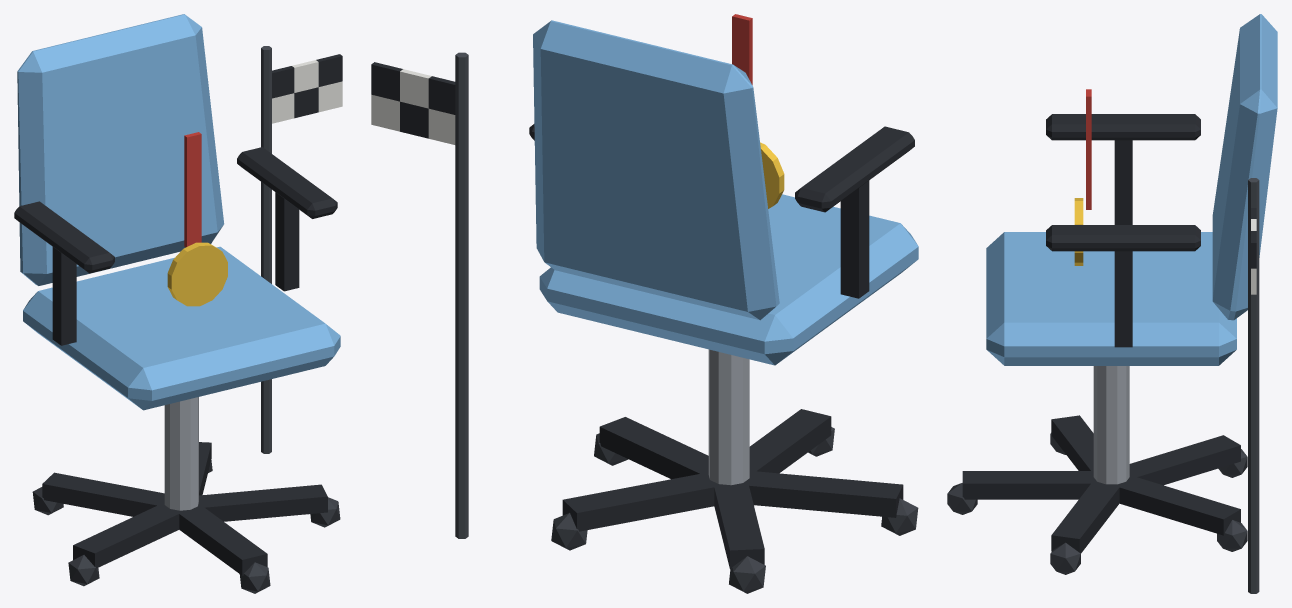
File: chair_p1_4.glb
The picture shows the model from 3 angles, left to right: view 1: azimuth 30°, elevation 25°; view 2: azimuth 150°, elevation 25°; view 3: azimuth 270°, elevation 25°; orthographic projection. The views are drawn at different scales.
Parts seen in each view (by area): view 1: chair_p1_4_mesh; view 2: chair_p1_4_mesh; view 3: chair_p1_4_mesh.
Boxes of the visible parts, left/top/right/bottom form: chair_p1_4_mesh: left=14, top=14, right=342, bottom=593; chair_p1_4_mesh: left=371, top=14, right=918, bottom=593; chair_p1_4_mesh: left=947, top=14, right=1277, bottom=593.
Size of the model in its own units: 0.7528 by 0.9 by 0.5814.
